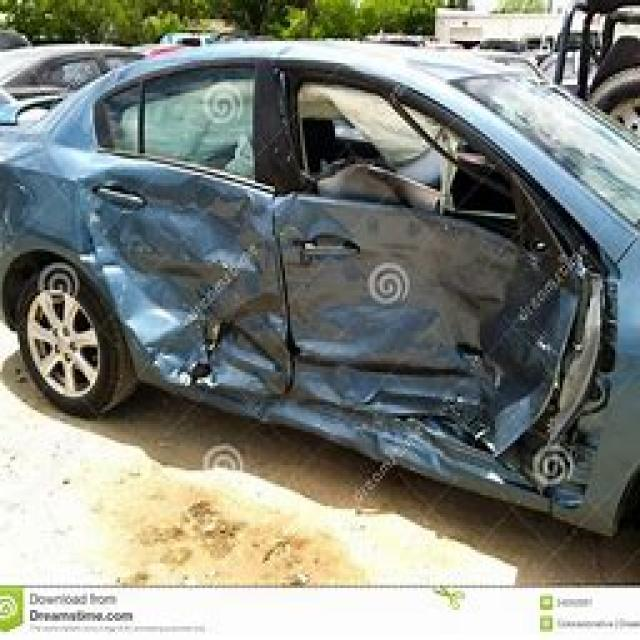Accident: (37, 21, 640, 548)
